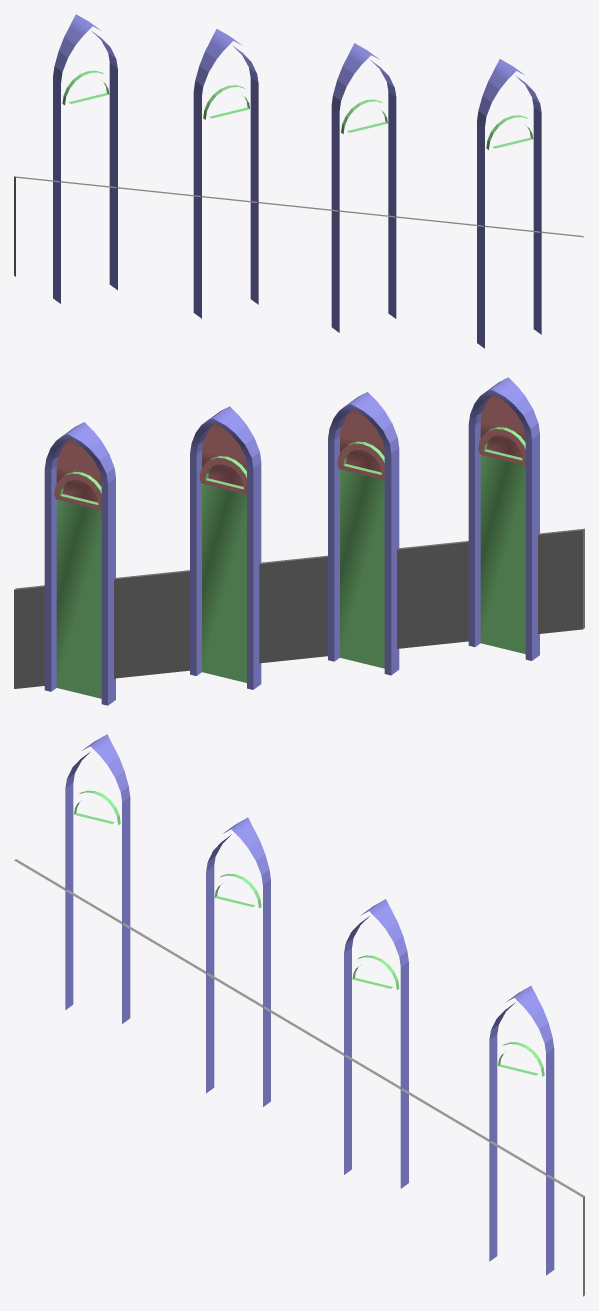
File: wall_deco_01.gltf
3 renders of one model, top to bottom at view 1: azimuth 30°, elevation 25°; view 2: azimuth 150°, elevation 25°; view 3: azimuth 330°, elevation 25°, orthographic.
Parts seen in each view (by area): view 1: wall_deco_01; view 2: wall_deco_01; view 3: wall_deco_01.
Boxes of the visible parts, x1=… form: wall_deco_01: x1=14, y1=14, x2=584, y2=348; wall_deco_01: x1=14, y1=377, x2=584, y2=705; wall_deco_01: x1=14, y1=734, x2=584, y2=1296.
Size of the model in its own units: 7.68 by 5.55 by 0.393.
